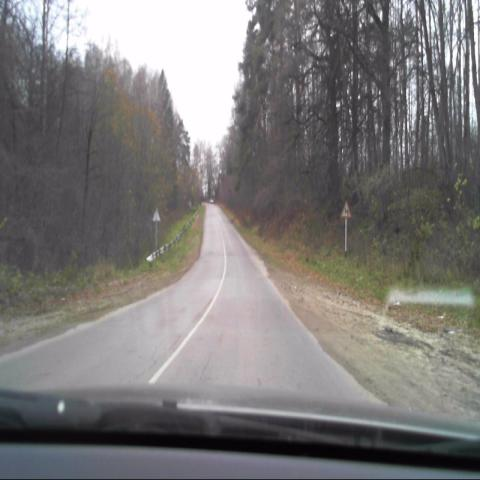1_12_2: (340, 199, 352, 220)
